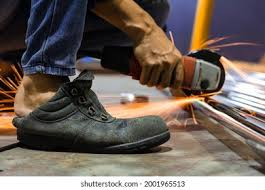Shoes: (22, 75, 168, 156)
